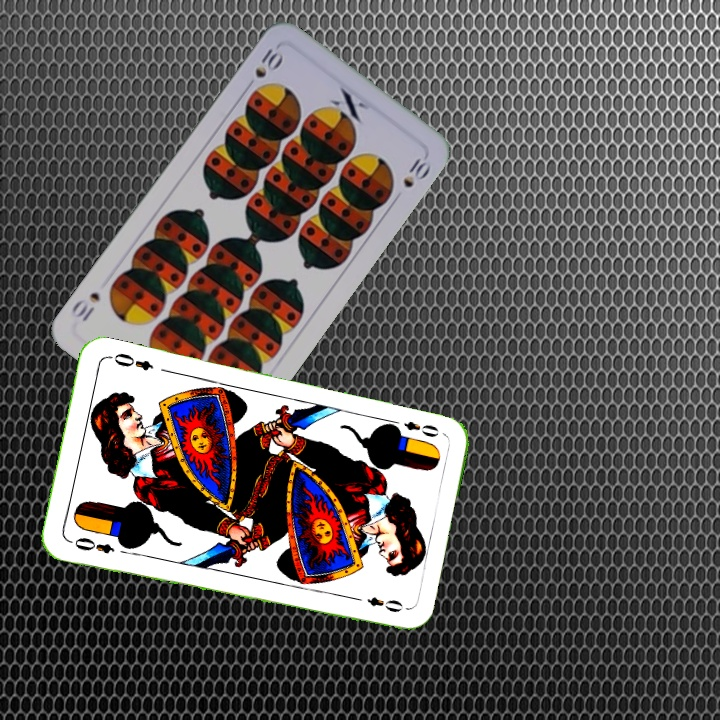EO: (64, 533, 117, 557), (399, 417, 442, 440)
S10: (241, 44, 286, 93)
